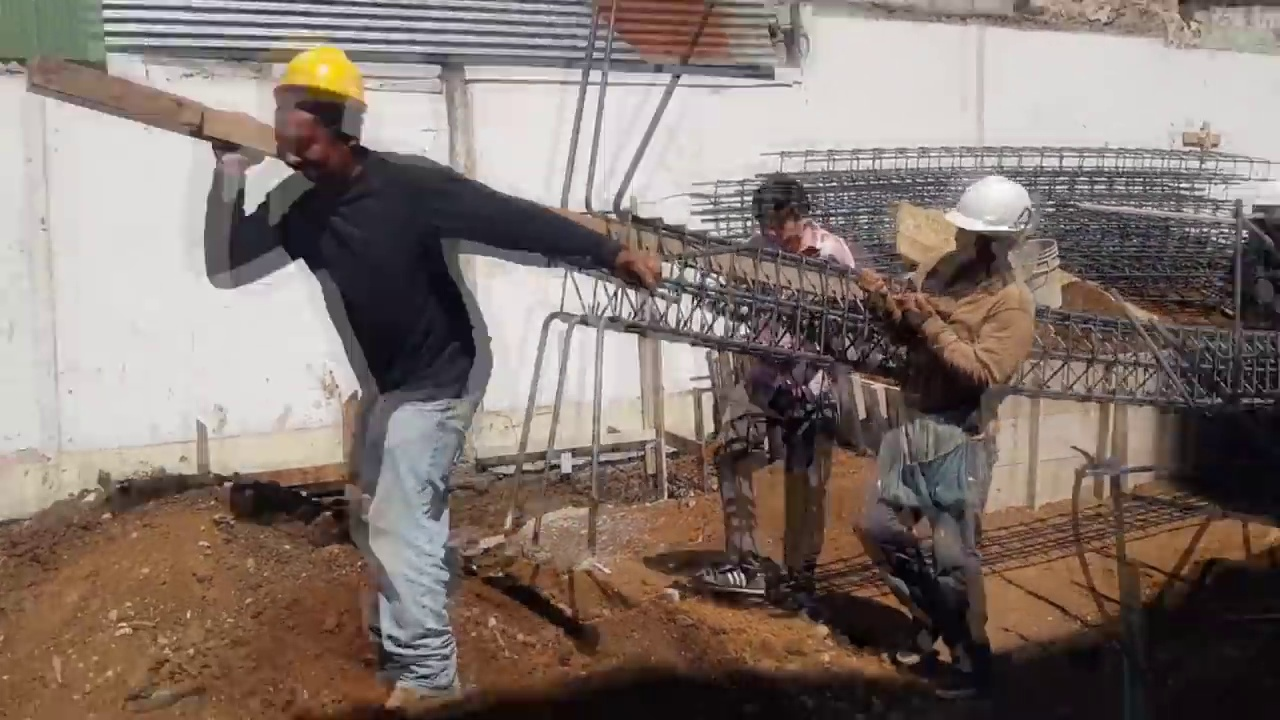helmet: (269, 43, 362, 112), (952, 172, 1037, 236)
helmet-off: (755, 176, 818, 249)
helmet-on: (272, 40, 380, 192), (948, 165, 1033, 286)
person: (227, 30, 597, 694), (861, 183, 1042, 692), (710, 168, 856, 614)
